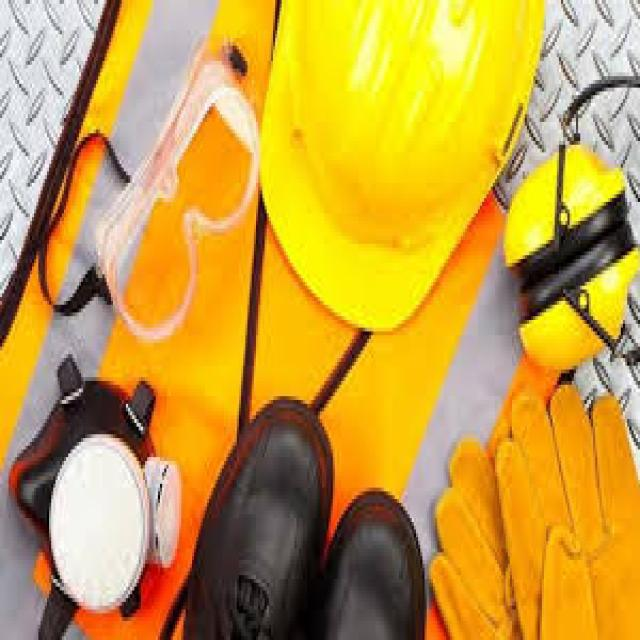glasses: (95, 44, 262, 371)
